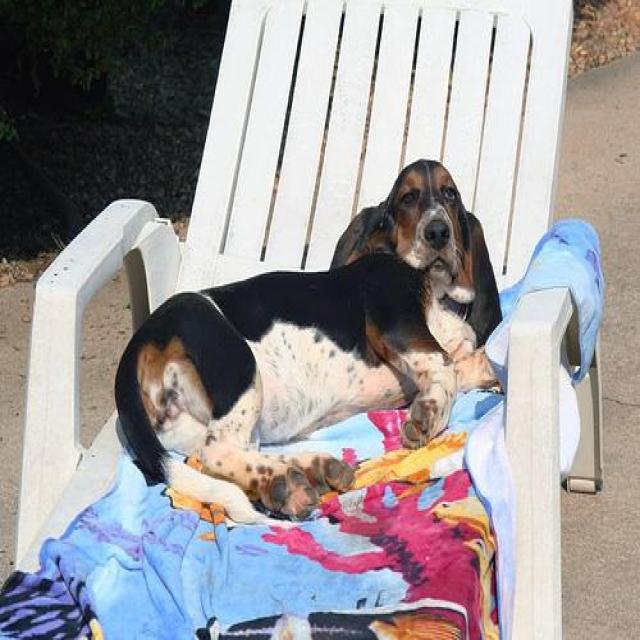basset: (114, 157, 506, 521)
